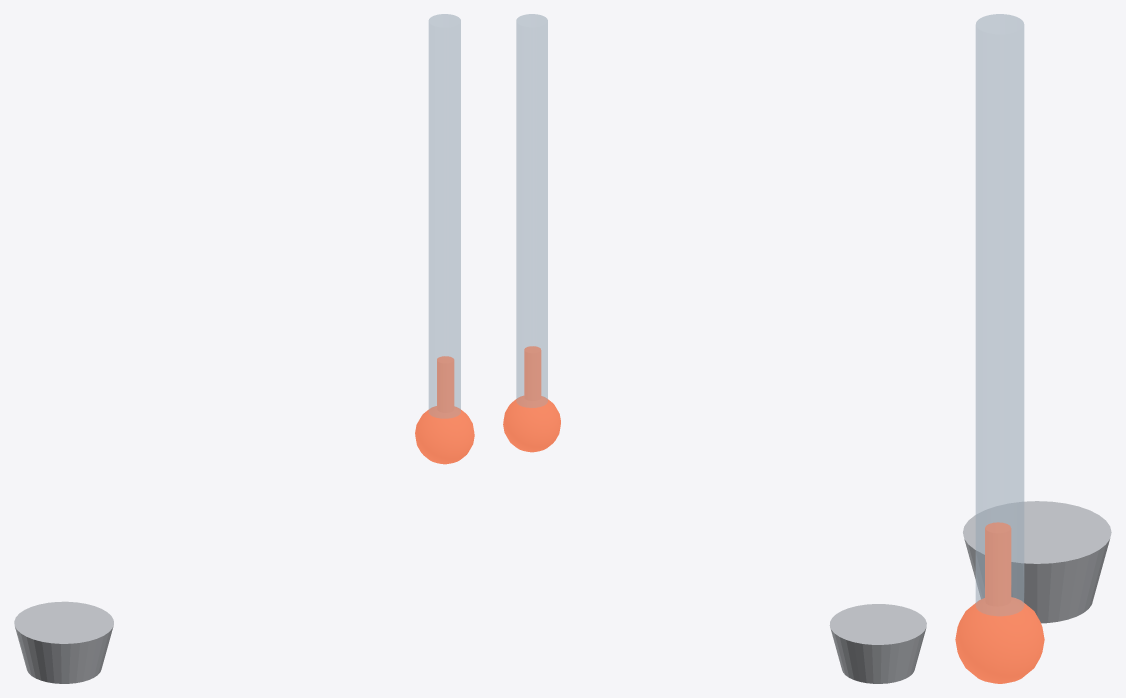
3 views of the same model, side by side, from view 1: azimuth 30°, elevation 25°; view 2: azimuth 150°, elevation 25°; view 3: azimuth 270°, elevation 25° (orthographic). The views are drawn at different scales.
Visible parts, largest first — view 1: 501 A Thermo Tube, 501 A Burner, 501 A Thermo Bulb, 501 A Thermo Col; view 2: 501 A Thermo Tube, 501 A Burner, 501 A Thermo Bulb, 501 A Thermo Col; view 3: 501 A Thermo Tube, 501 A Burner, 501 A Thermo Bulb, 501 A Thermo Col.
Part boxes in pixels (box(x1,y1,x2,y2)): 501 A Thermo Tube: box(428, 14, 460, 418); 501 A Burner: box(14, 601, 113, 683); 501 A Thermo Bulb: box(415, 406, 474, 464); 501 A Thermo Col: box(437, 356, 454, 412); 501 A Thermo Tube: box(516, 14, 547, 407); 501 A Burner: box(829, 604, 926, 683); 501 A Thermo Bulb: box(503, 395, 560, 452); 501 A Thermo Col: box(524, 346, 541, 400); 501 A Thermo Tube: box(975, 14, 1024, 615); 501 A Burner: box(963, 501, 1111, 623); 501 A Thermo Bulb: box(955, 597, 1044, 683); 501 A Thermo Col: box(985, 522, 1011, 606).
Size of what is drawn, in the model's own units: 4.04 by 5 by 0.84.
